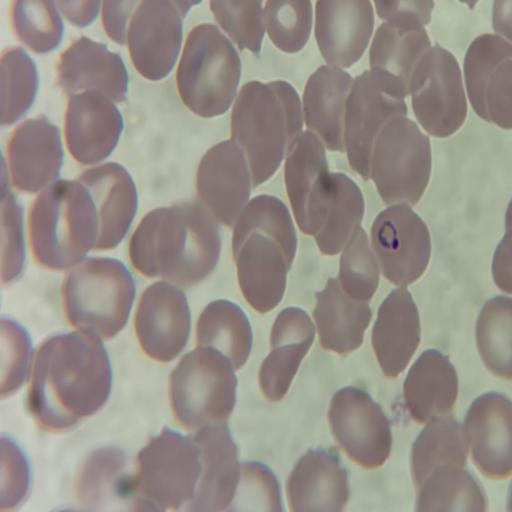Infected: (369, 204, 431, 288)
Uninfected: (131, 204, 221, 288), (29, 333, 108, 425), (28, 180, 98, 269), (231, 82, 291, 185), (343, 71, 403, 173), (176, 23, 241, 116), (371, 116, 430, 211), (65, 259, 135, 339), (72, 164, 137, 250), (135, 430, 204, 508), (282, 131, 334, 234), (169, 350, 236, 429), (410, 43, 466, 136), (309, 170, 366, 259), (327, 386, 390, 465), (196, 142, 254, 226), (234, 230, 290, 314), (133, 281, 191, 362), (58, 36, 127, 103), (311, 277, 369, 356), (126, 2, 184, 80), (64, 90, 125, 163), (301, 66, 352, 153), (369, 290, 420, 376), (463, 34, 509, 129), (401, 351, 457, 426), (7, 118, 62, 193), (313, 0, 371, 67), (464, 393, 511, 475), (189, 426, 237, 504), (195, 300, 250, 368), (412, 416, 465, 486), (287, 450, 348, 510), (258, 343, 310, 402), (416, 464, 484, 509), (76, 447, 126, 507), (208, 0, 264, 53), (383, 29, 432, 88), (338, 227, 378, 299), (475, 299, 511, 374), (262, 2, 311, 54), (14, 1, 62, 52), (269, 306, 312, 355)
